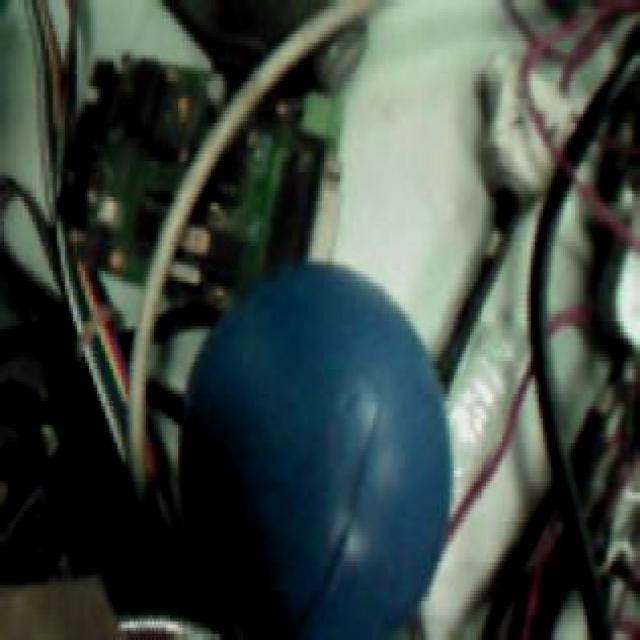BallPurple: (184, 265, 452, 640)
